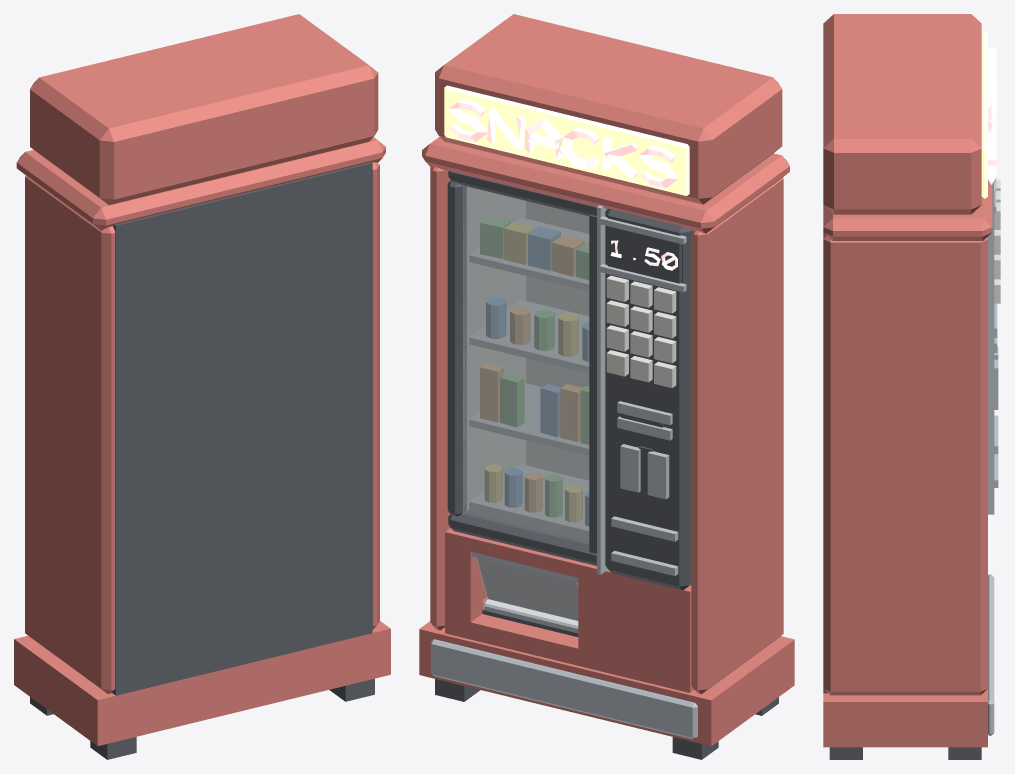
Rendered from VendingMachine.fbx.
3 renders of one model, left to right at view 1: azimuth 30°, elevation 25°; view 2: azimuth 150°, elevation 25°; view 3: azimuth 270°, elevation 25°, orthographic.
Parts seen in each view (by area): view 1: VendingMachine.DarkShell, VendingMachine.Body; view 2: VendingMachine.Body, VendingMachine.GlassPane, VendingMachine.DarkShell, VendingMachine.Steelwork, VendingMachine.Whitework, VendingMachine.SignPanel, VendingMachine.NeonText, VendingMachine.DeliveryFlap, VendingMachine.ProductsOrange, VendingMachine.ProductsGreen, VendingMachine.ProductsBlue, VendingMachine.ProductsYellow; view 3: VendingMachine.Body, VendingMachine.Steelwork, VendingMachine.NeonText, VendingMachine.SignPanel, VendingMachine.DarkShell, VendingMachine.Whitework.
Boxes of the visible parts, bbox=[...] form: VendingMachine.DarkShell: bbox=[30, 162, 374, 759]; VendingMachine.Body: bbox=[14, 14, 390, 745]; VendingMachine.Body: bbox=[419, 14, 794, 746]; VendingMachine.GlassPane: bbox=[463, 185, 589, 544]; VendingMachine.DarkShell: bbox=[435, 171, 778, 759]; VendingMachine.Steelwork: bbox=[430, 205, 697, 739]; VendingMachine.Whitework: bbox=[466, 186, 676, 510]; VendingMachine.SignPanel: bbox=[444, 85, 689, 195]; VendingMachine.NeonText: bbox=[449, 99, 677, 270]; VendingMachine.DeliveryFlap: bbox=[476, 558, 578, 630]; VendingMachine.ProductsOrange: bbox=[480, 235, 584, 512]; VendingMachine.ProductsGreen: bbox=[480, 216, 588, 517]; VendingMachine.ProductsBlue: bbox=[486, 226, 588, 526]; VendingMachine.ProductsYellow: bbox=[485, 222, 582, 522]; VendingMachine.Body: bbox=[823, 14, 992, 747]; VendingMachine.Steelwork: bbox=[987, 178, 998, 735]; VendingMachine.NeonText: bbox=[988, 48, 997, 189]; VendingMachine.SignPanel: bbox=[981, 31, 987, 198]; VendingMachine.DarkShell: bbox=[823, 233, 981, 759]; VendingMachine.Whitework: bbox=[994, 179, 1000, 303].
Size of the model in its own units: 3.2 by 6.56 by 1.7.
